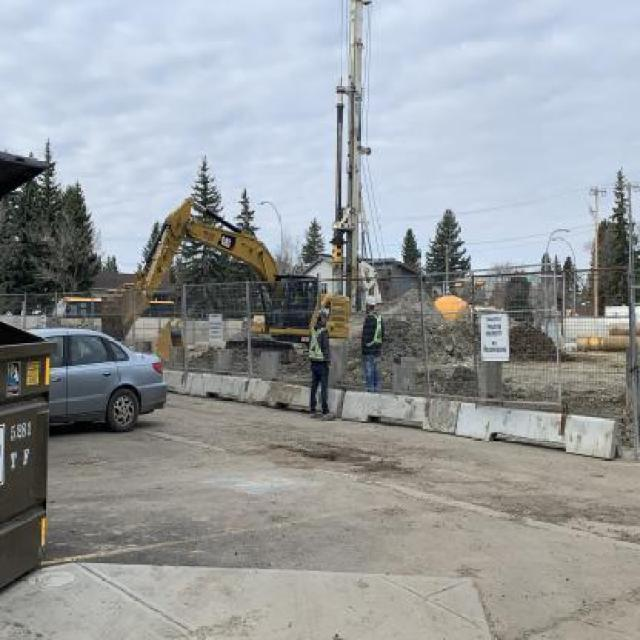excavator: (104, 198, 350, 348)
